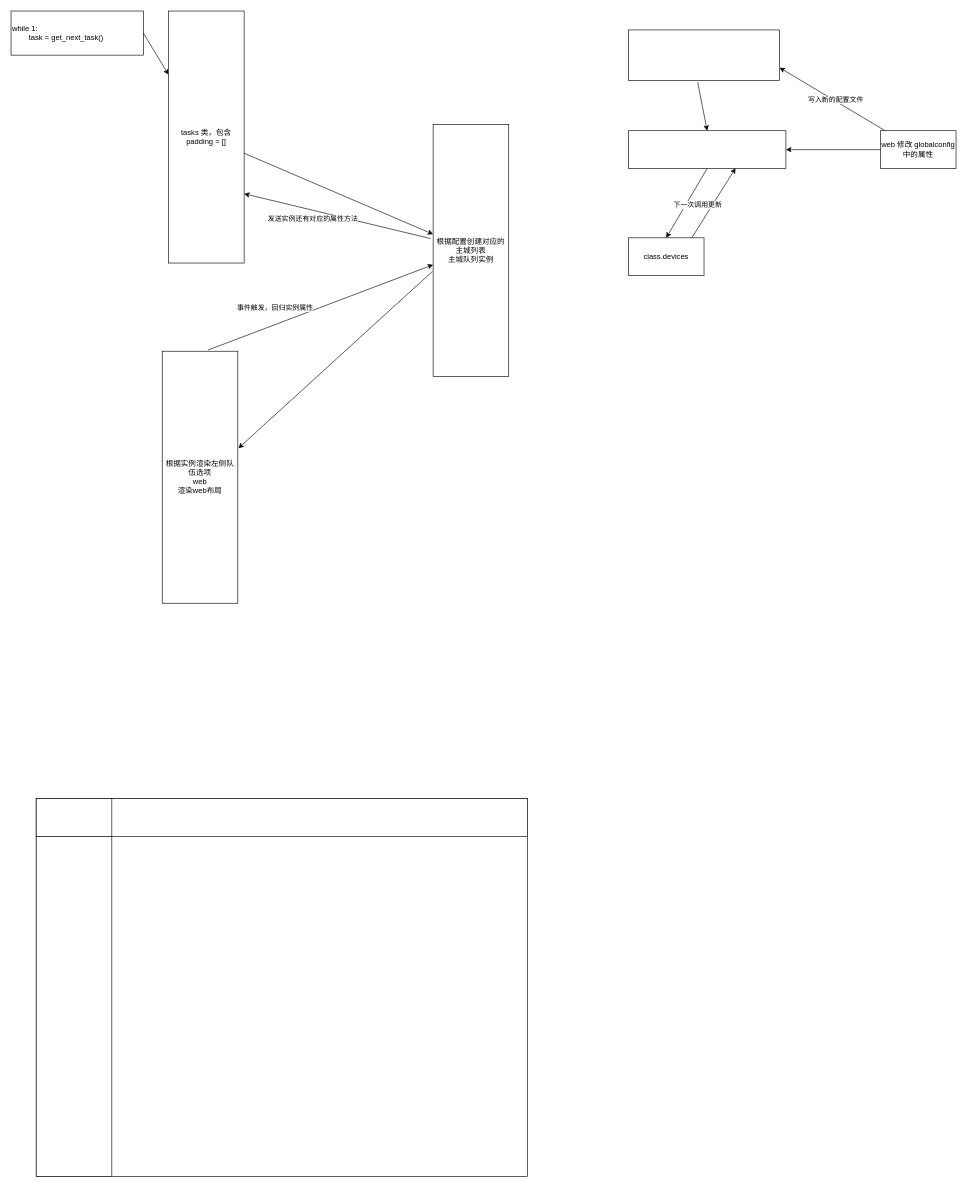
This 967x1188 diagram has some shape labels left out. The centre of each missing label's shape, as x and y in pixels:
config.yaml 文件: the point at 704,54
globalconfig 对象: the point at 707,149
状态: the point at 74,817
